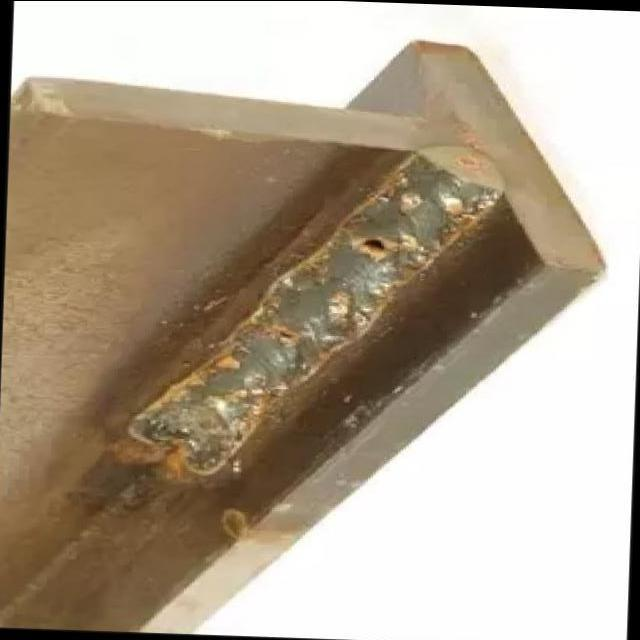defect: (354, 236, 388, 255), (267, 325, 296, 343)
